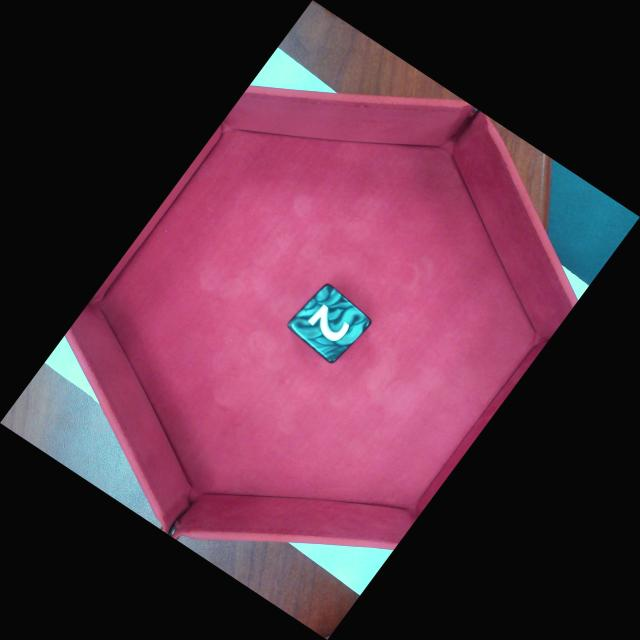dice: (285, 279, 377, 368)
